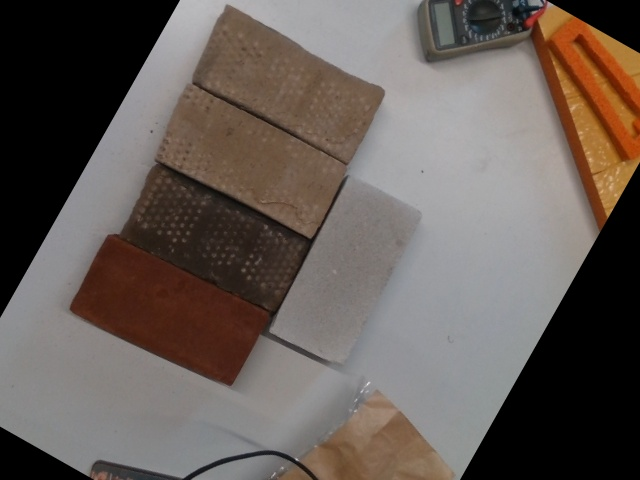brick: (69, 237, 268, 393), (270, 174, 420, 368), (154, 88, 347, 238), (121, 164, 309, 316), (192, 13, 384, 156)
